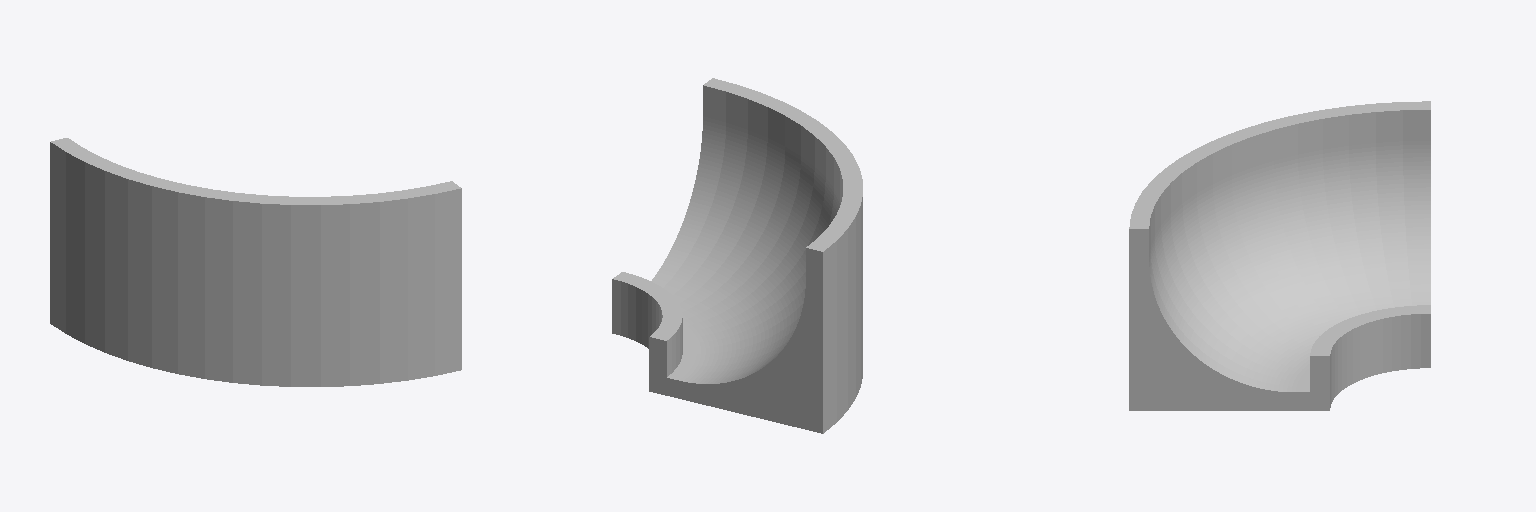
Rendered from BankedCornerMedium.obj.
The picture shows the model from 3 angles: view 1: azimuth 30°, elevation 25°; view 2: azimuth 150°, elevation 25°; view 3: azimuth 270°, elevation 25°; orthographic projection.
Visible parts, largest first — view 1: BankedCornerMedium; view 2: BankedCornerMedium; view 3: BankedCornerMedium.
Boxes of the visible parts, x1,y1,x2,y2 form: BankedCornerMedium: [50, 138, 461, 386]; BankedCornerMedium: [612, 78, 862, 433]; BankedCornerMedium: [1129, 101, 1430, 410].
Size of the model in its own units: 3 by 2 by 3.